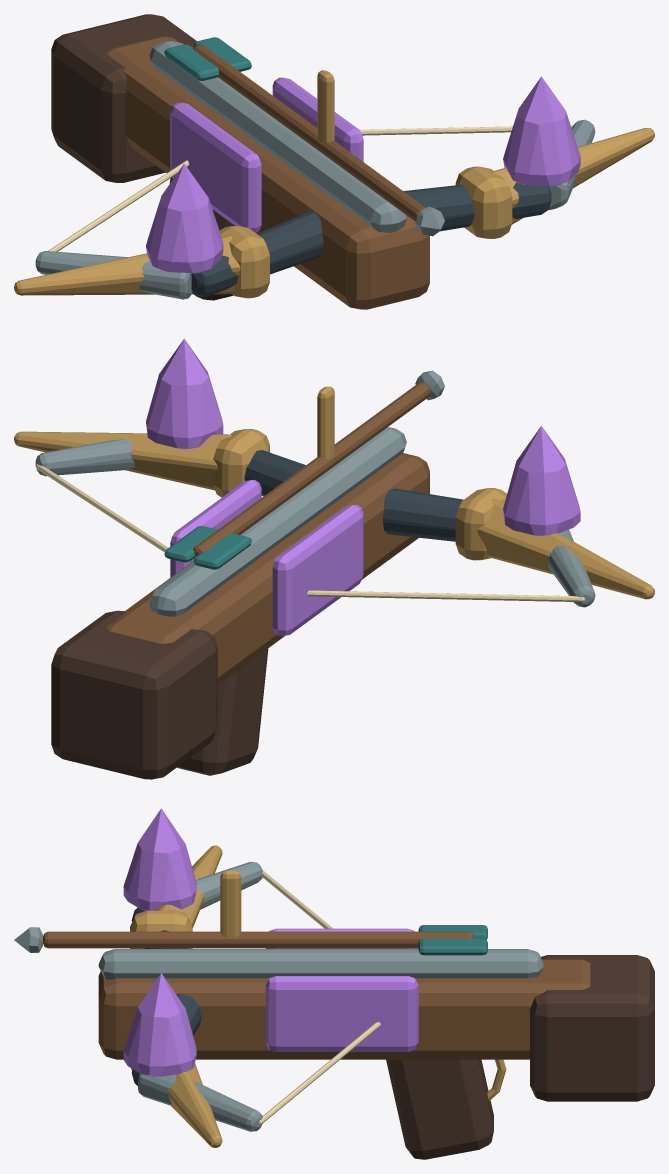
The model's file is stormstring.glb.
3 renders of one model, top to bottom at view 1: azimuth 30°, elevation 25°; view 2: azimuth 150°, elevation 25°; view 3: azimuth 270°, elevation 25°, orthographic. The views are drawn at different scales.
Parts seen in each view (by area): view 1: AetherPrism.006, WalnutStock.002, LimbBinding.002, ShoulderButt.002, Rail.002, SteelBowInner.002, LoadedBolt.001, BowString.002, Fletching.002, BoltHead.001; view 2: ShoulderButt.002, AetherPrism.006, LimbBinding.002, WalnutStock.002, Rail.002, SteelBowInner.002, LoadedBolt.001, BowString.002, Fletching.002; view 3: ShoulderButt.002, AetherPrism.006, WalnutStock.002, Rail.002, LoadedBolt.001, LimbBinding.002, Fletching.002, BowString.002, SteelBowInner.002, BoltHead.001.
Part boxes in pixels (left/top/right/bottom): AetherPrism.006: left=146, top=76, right=580, bottom=273; WalnutStock.002: left=107, top=36, right=429, bottom=309; LimbBinding.002: left=14, top=70, right=654, bottom=298; ShoulderButt.002: left=51, top=14, right=234, bottom=300; Rail.002: left=35, top=41, right=595, bottom=299; SteelBowInner.002: left=191, top=182, right=551, bottom=296; LoadedBolt.001: left=193, top=44, right=425, bottom=221; BowString.002: left=48, top=125, right=573, bottom=251; Fletching.002: left=164, top=37, right=251, bottom=80; BoltHead.001: left=415, top=206, right=444, bottom=236; ShoulderButt.002: left=51, top=610, right=268, bottom=779; AetherPrism.006: left=146, top=338, right=580, bottom=636; LimbBinding.002: left=14, top=386, right=654, bottom=599; WalnutStock.002: left=107, top=453, right=429, bottom=684; Rail.002: left=35, top=427, right=595, bottom=616; SteelBowInner.002: left=244, top=450, right=463, bottom=541; LoadedBolt.001: left=193, top=382, right=430, bottom=559; BowString.002: left=35, top=464, right=585, bottom=602; Fletching.002: left=164, top=526, right=251, bottom=569; ShoulderButt.002: left=386, top=955, right=654, bottom=1159; AetherPrism.006: left=123, top=808, right=418, bottom=1077; WalnutStock.002: left=98, top=959, right=590, bottom=1059; Rail.002: left=98, top=862, right=543, bottom=1131; LoadedBolt.001: left=43, top=931, right=474, bottom=948; LimbBinding.002: left=130, top=845, right=506, bottom=1147; Fletching.002: left=418, top=925, right=487, bottom=955; BowString.002: left=259, top=870, right=380, bottom=1124; SteelBowInner.002: left=131, top=907, right=201, bottom=1085; BoltHead.001: left=14, top=927, right=42, bottom=952.
Size of the model in its own units: 1 by 0.446 by 0.9219.
